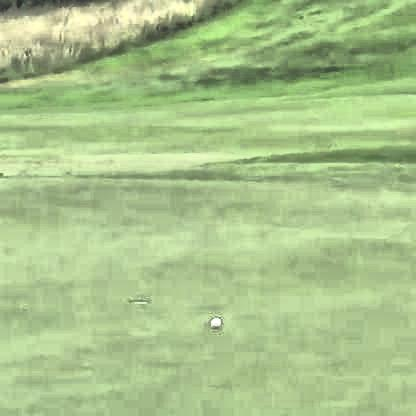golfball: (208, 315, 220, 327)
